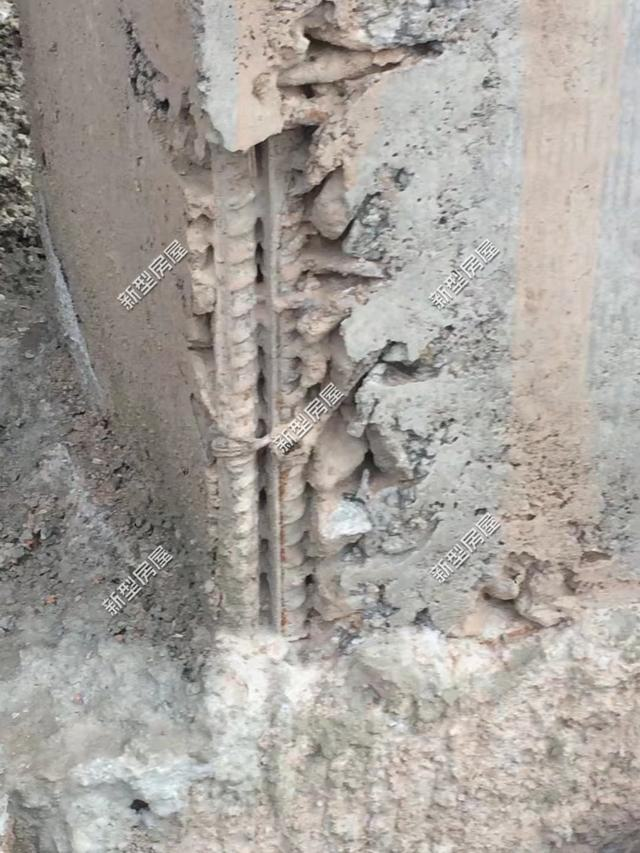Exposed reinforcement: (262, 124, 317, 644), (209, 141, 262, 625), (275, 46, 436, 86), (318, 245, 390, 279)
Spalling: (124, 1, 640, 647)
